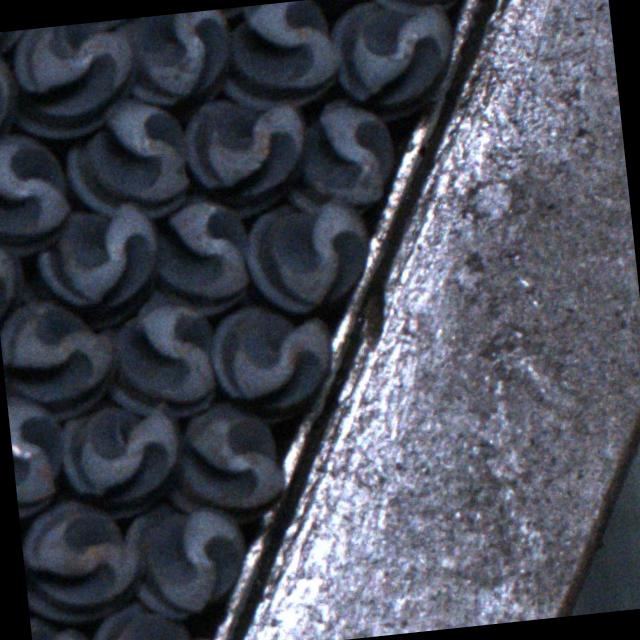tool_b: (18, 492, 151, 630), (60, 95, 196, 228), (204, 294, 336, 426), (32, 198, 163, 329), (6, 18, 142, 142), (180, 91, 310, 220), (101, 285, 222, 422), (120, 495, 248, 623), (0, 292, 123, 421), (240, 196, 372, 316), (328, 0, 456, 123), (58, 398, 184, 520), (277, 92, 400, 216), (158, 396, 284, 516), (213, 0, 342, 115), (146, 194, 258, 316), (120, 8, 233, 108), (0, 129, 77, 259), (7, 393, 72, 517), (84, 593, 207, 640)
